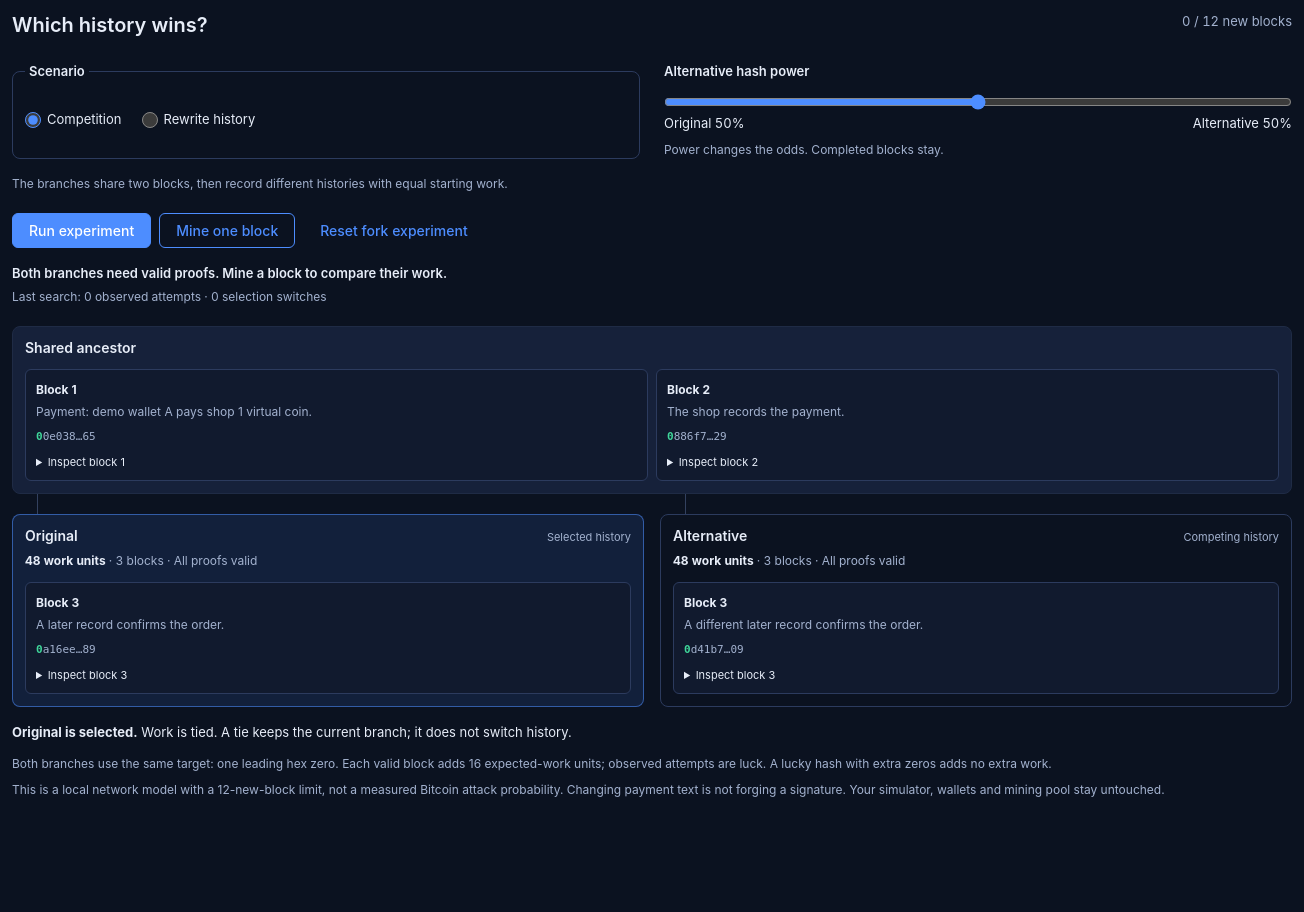
Test: ForkExperiment › starts fresh and clears partial lesson evidence on scenario
Click the button "Mine one block".
click(227, 230)  # box [159,213,295,248]
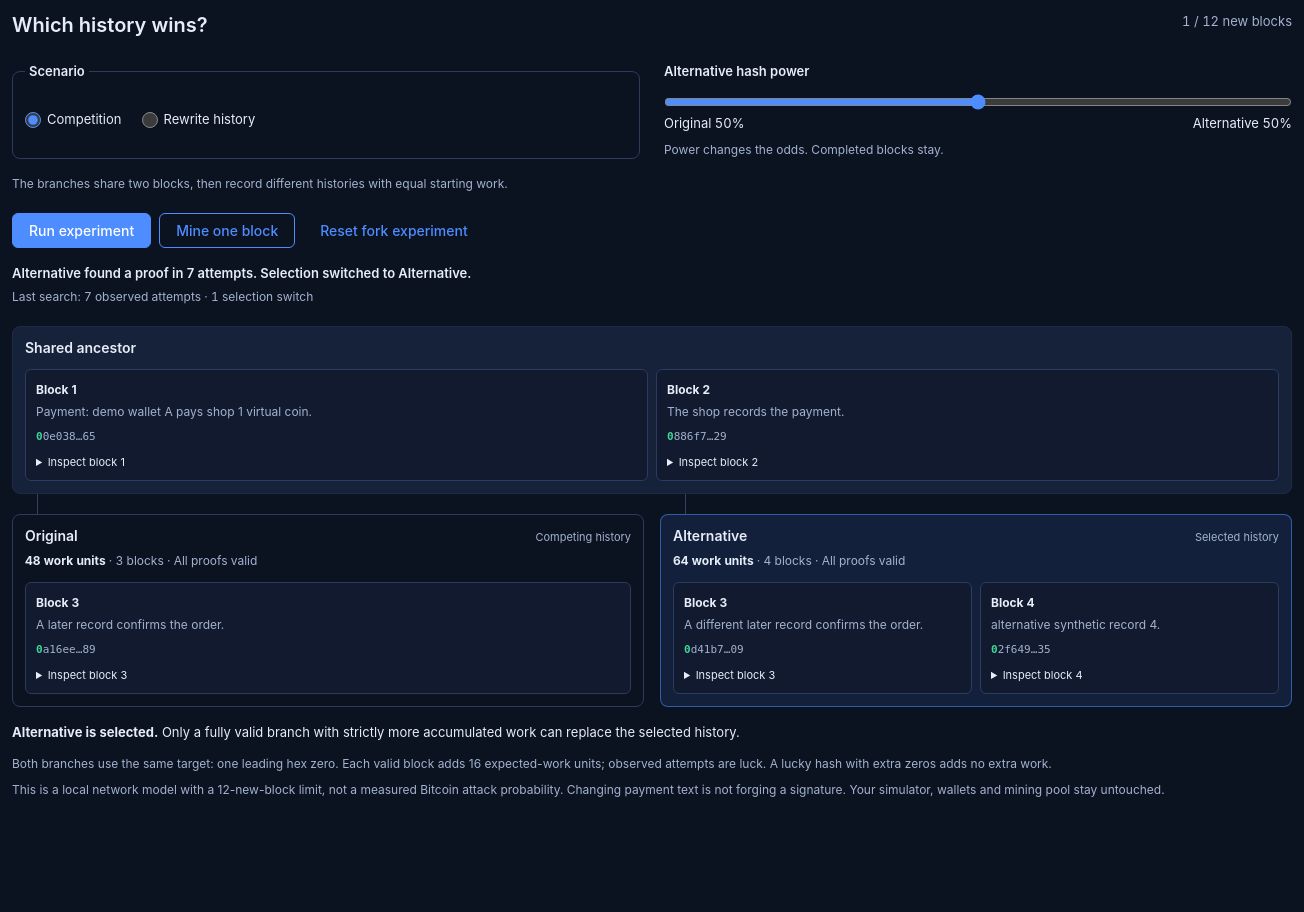
Click the radio button labelled "Rewrite history".
click(150, 120)  # box [142,112,158,128]
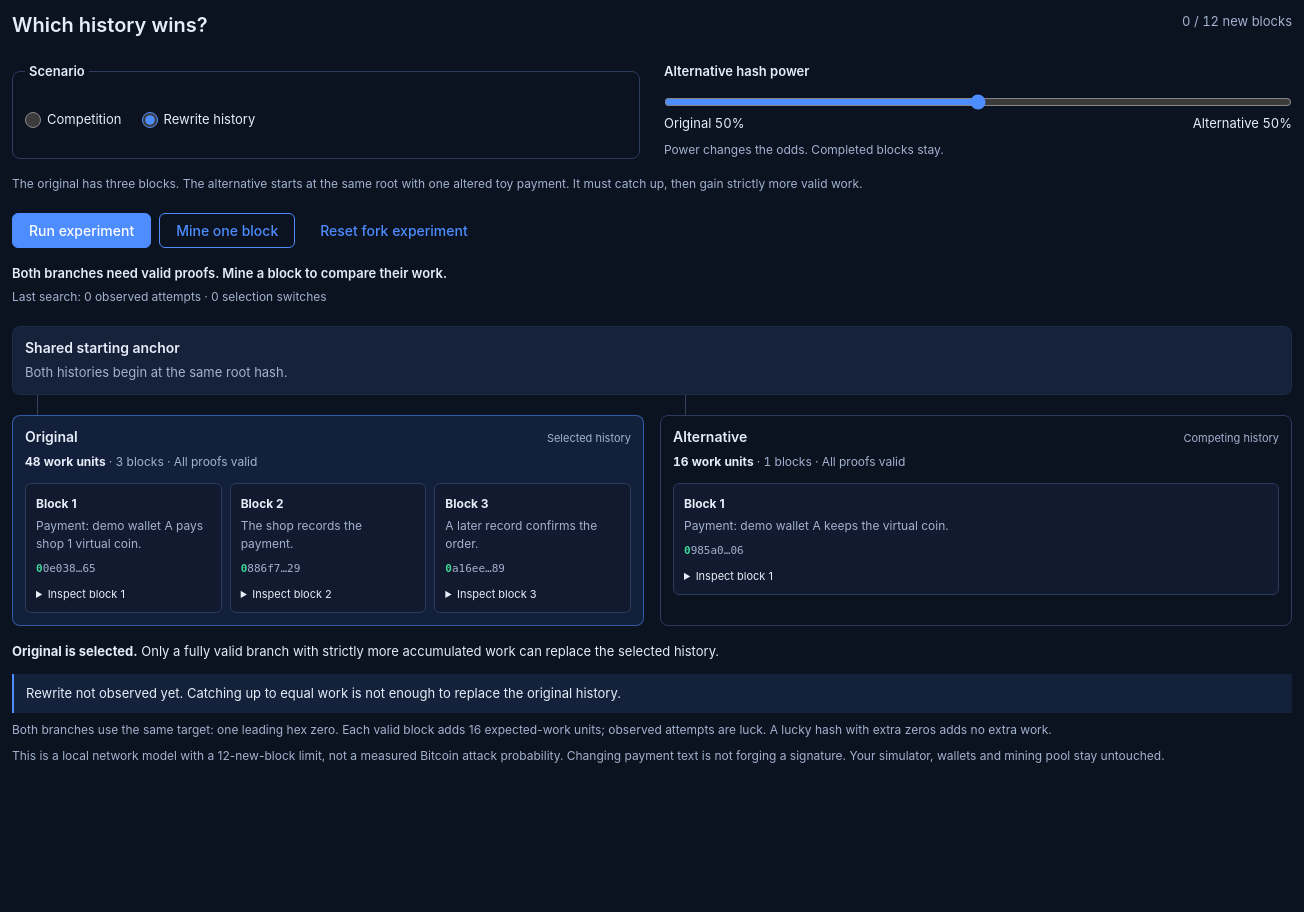
Expected: the text "0 / 12 new blocks" is shown, [1182,12,1292,32]
Expected: the text "Original is selected." is shown, [12,643,138,659]
